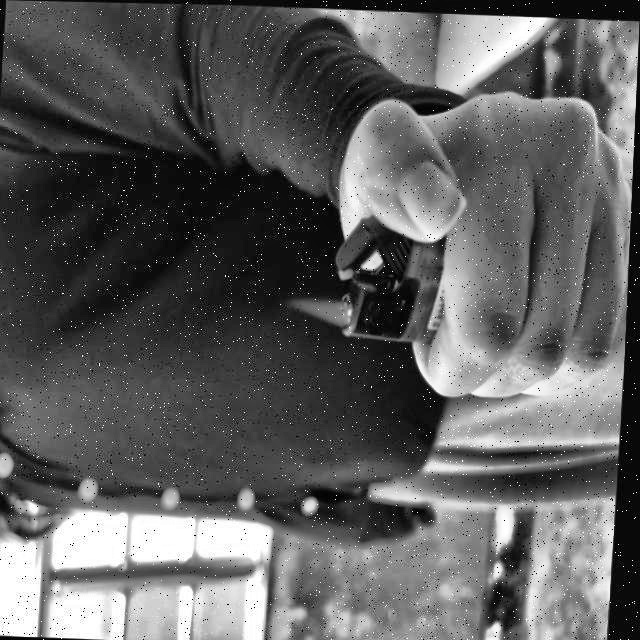Fire: (282, 292, 358, 325)
